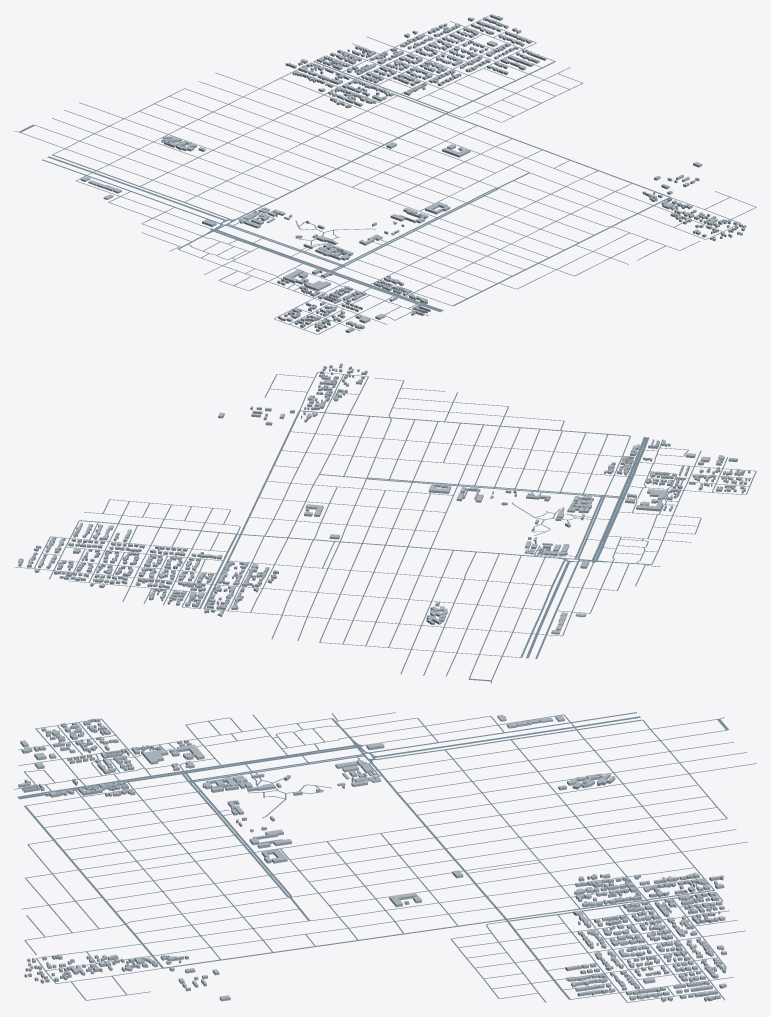
The picture shows the model from 3 angles, top to bottom: view 1: azimuth 30°, elevation 25°; view 2: azimuth 150°, elevation 25°; view 3: azimuth 270°, elevation 25°; orthographic projection. The views are drawn at different scales.
Size of the model in its own units: 1964 by 16 by 2121.
